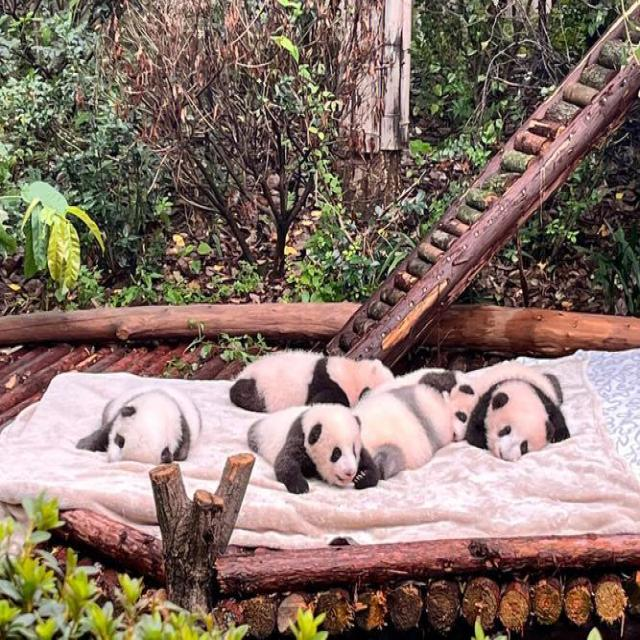panda: (230, 329, 600, 497), (64, 323, 221, 476)
